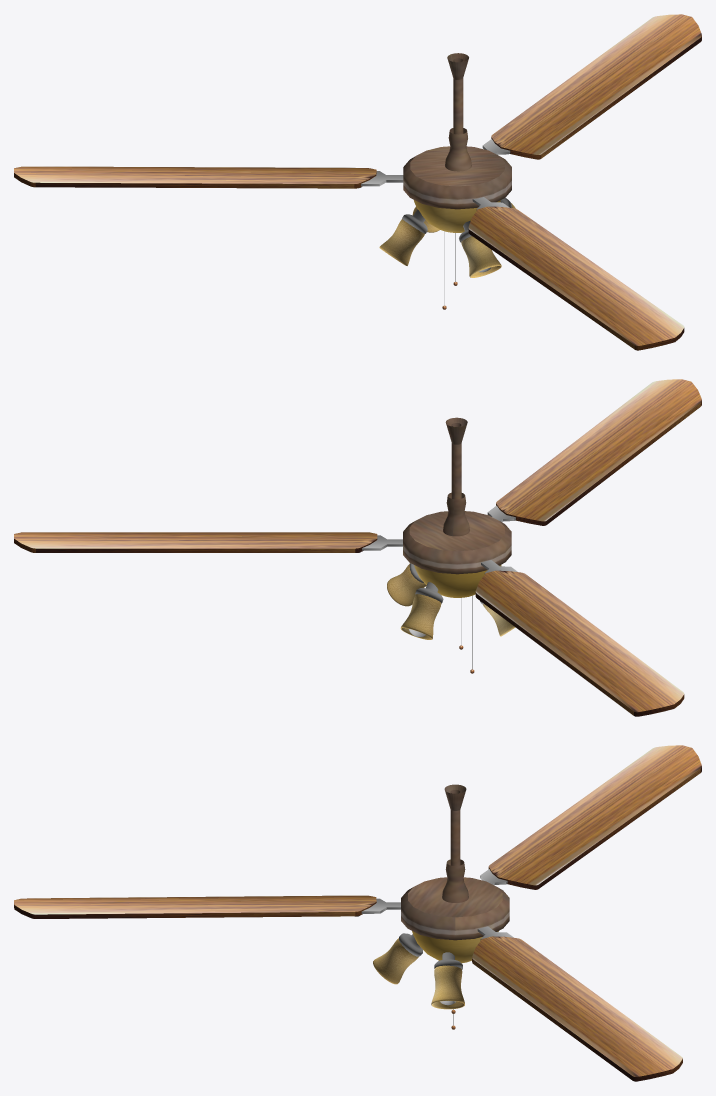
File: CeilingFan.FBX
The picture shows the model from 3 angles, top to bottom: view 1: azimuth 30°, elevation 25°; view 2: azimuth 150°, elevation 25°; view 3: azimuth 270°, elevation 25°; orthographic projection.
Parts seen in each view (by area): view 1: Ceiling_fan; view 2: Ceiling_fan; view 3: Ceiling_fan.
Part boxes in pixels (x1,y1,x2,y2): Ceiling_fan: [14, 14, 701, 350]; Ceiling_fan: [14, 379, 701, 716]; Ceiling_fan: [14, 745, 701, 1081].
Bounding box in the file's own units: 142 × 50.25 × 127.
Materials: 1 (1 with a texture image).
